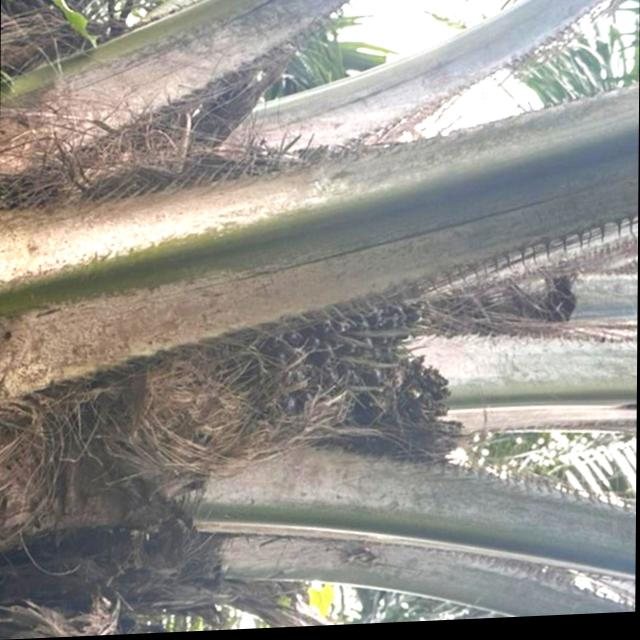almost: (200, 288, 438, 456)
